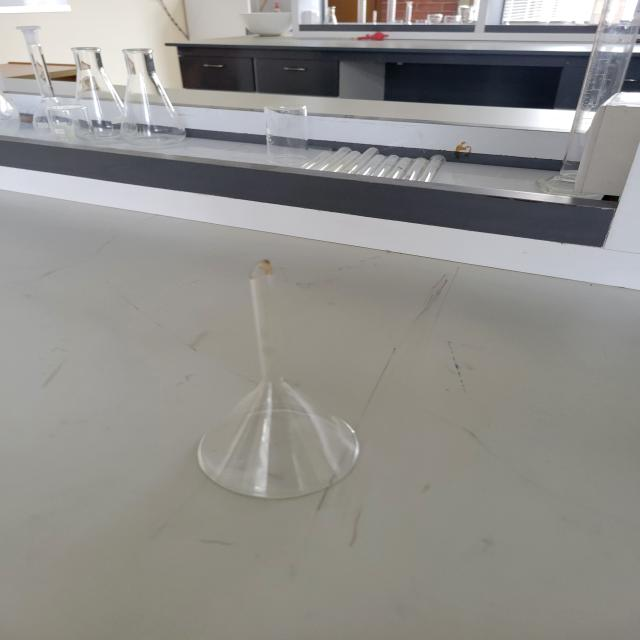Funnel: (117, 220, 414, 528)
